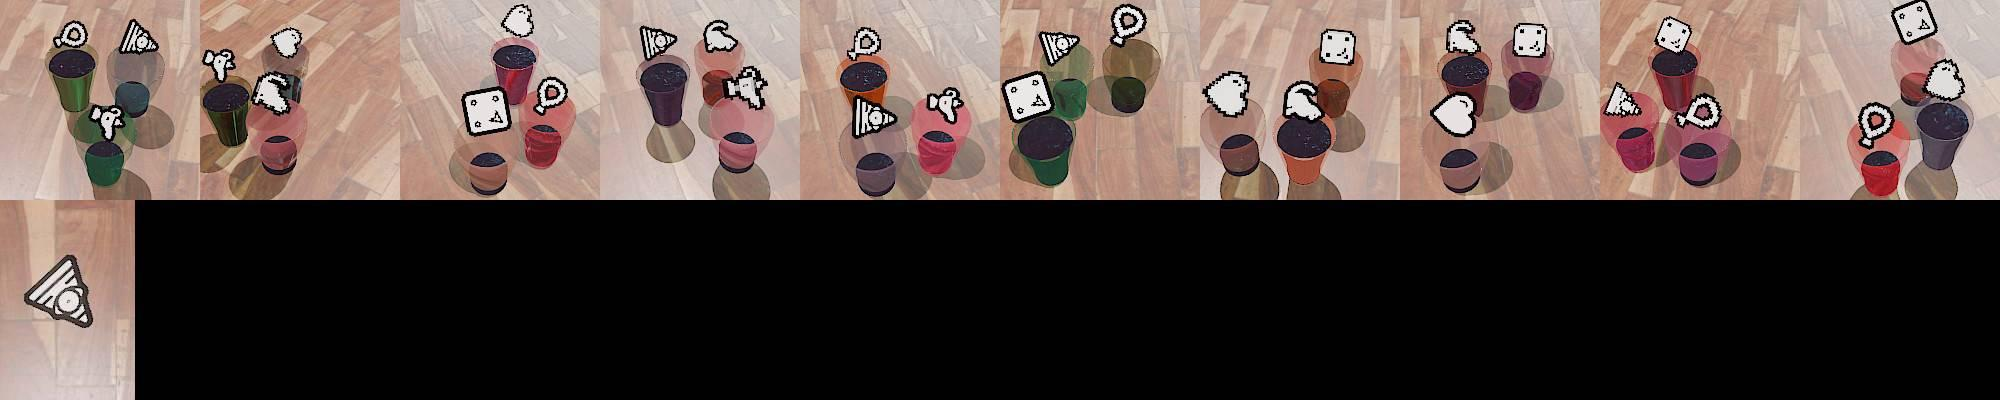icon: (23, 249, 108, 334), (1001, 70, 1054, 123), (460, 86, 513, 137), (1431, 89, 1479, 137), (1204, 70, 1251, 117), (250, 70, 298, 115), (1891, 0, 1937, 45), (852, 94, 899, 138), (1857, 101, 1896, 154), (726, 65, 769, 110), (1674, 93, 1722, 130), (1922, 59, 1965, 100), (1282, 79, 1324, 120), (1109, 3, 1147, 46), (1654, 16, 1694, 55), (1319, 27, 1357, 67), (637, 25, 678, 62), (118, 18, 159, 55), (1039, 30, 1080, 65), (927, 86, 964, 124), (88, 103, 126, 140), (1603, 82, 1643, 117), (1445, 19, 1482, 56), (1512, 21, 1549, 58), (534, 76, 569, 114), (703, 19, 738, 53), (501, 3, 535, 38), (202, 49, 236, 83), (849, 26, 882, 60), (53, 20, 90, 50), (270, 26, 303, 59)
